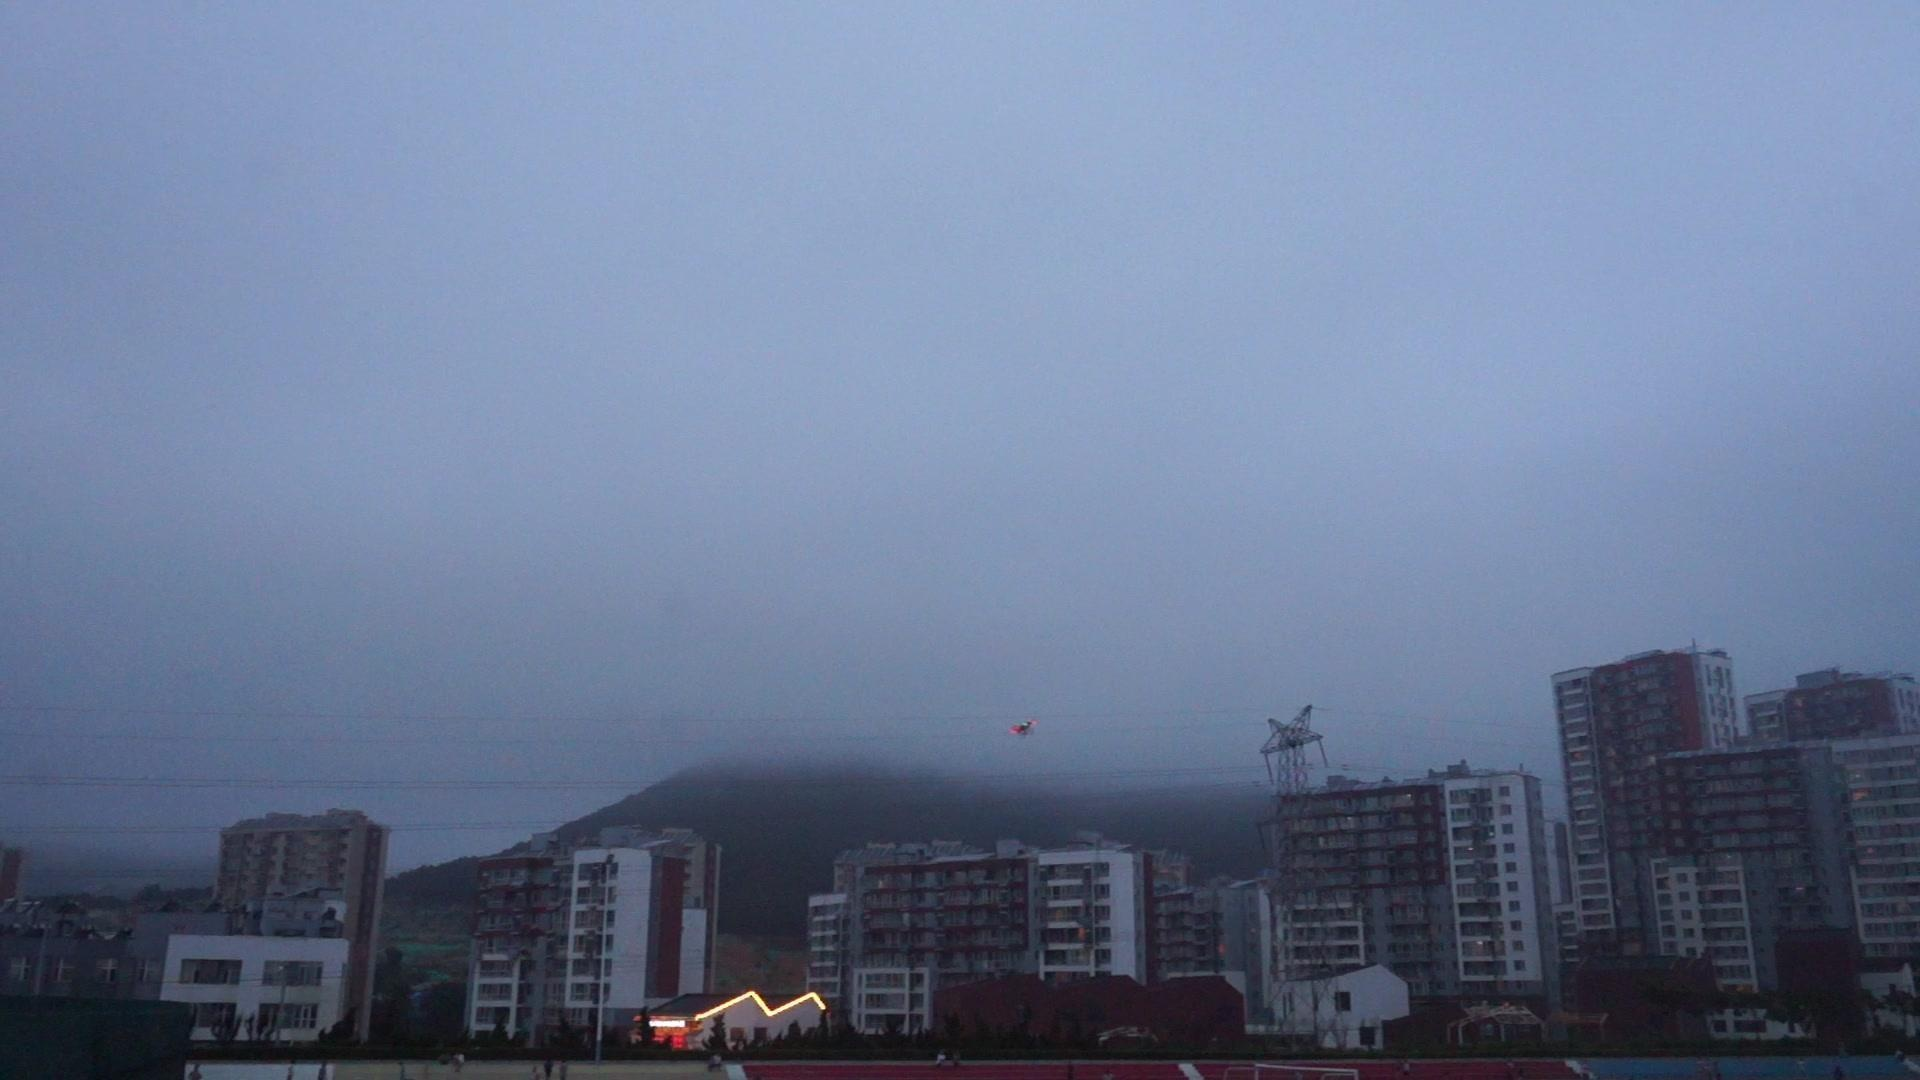UAV: (1009, 720, 1040, 736)
